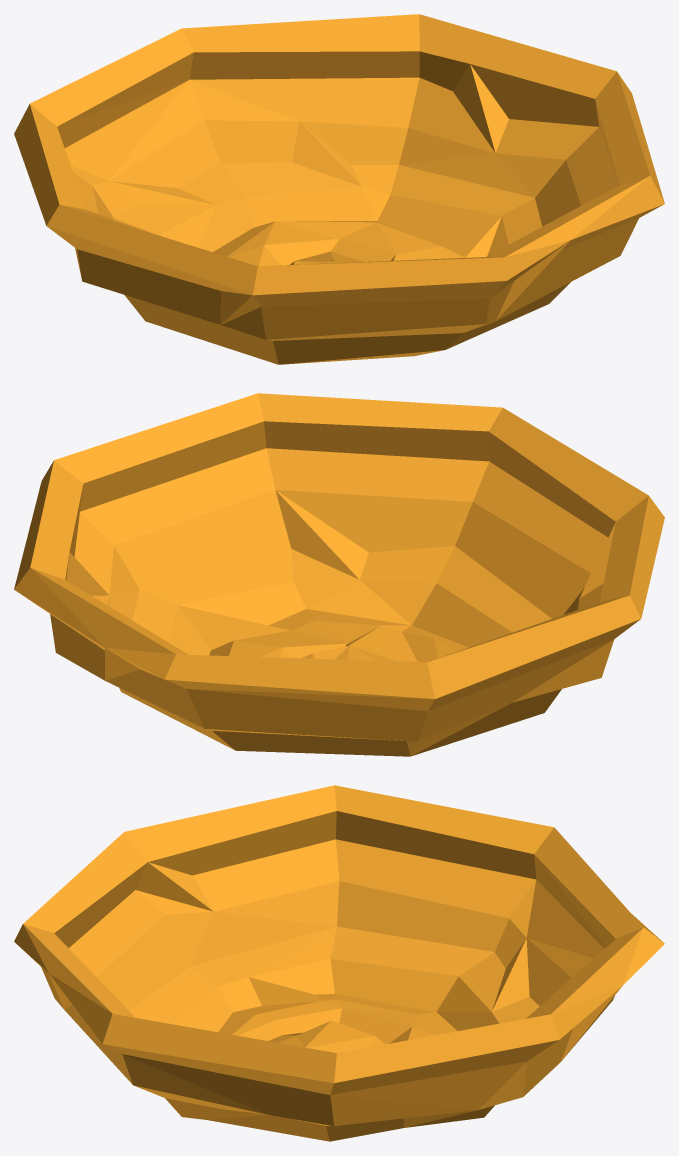
The model's file is SM_Basket_H_Farm.fbx.
The picture shows the model from 3 angles, top to bottom: view 1: azimuth 30°, elevation 25°; view 2: azimuth 150°, elevation 25°; view 3: azimuth 270°, elevation 25°; orthographic projection. The views are drawn at different scales.
Visible parts, largest first — view 1: basket-h-farm; view 2: basket-h-farm; view 3: basket-h-farm.
Boxes of the visible parts, x1=… form: basket-h-farm: x1=14, y1=14, x2=664, y2=364; basket-h-farm: x1=14, y1=393, x2=664, y2=756; basket-h-farm: x1=14, y1=785, x2=664, y2=1141.
Bounding box in the file's own units: 0.3868 × 0.106 × 0.3852.
